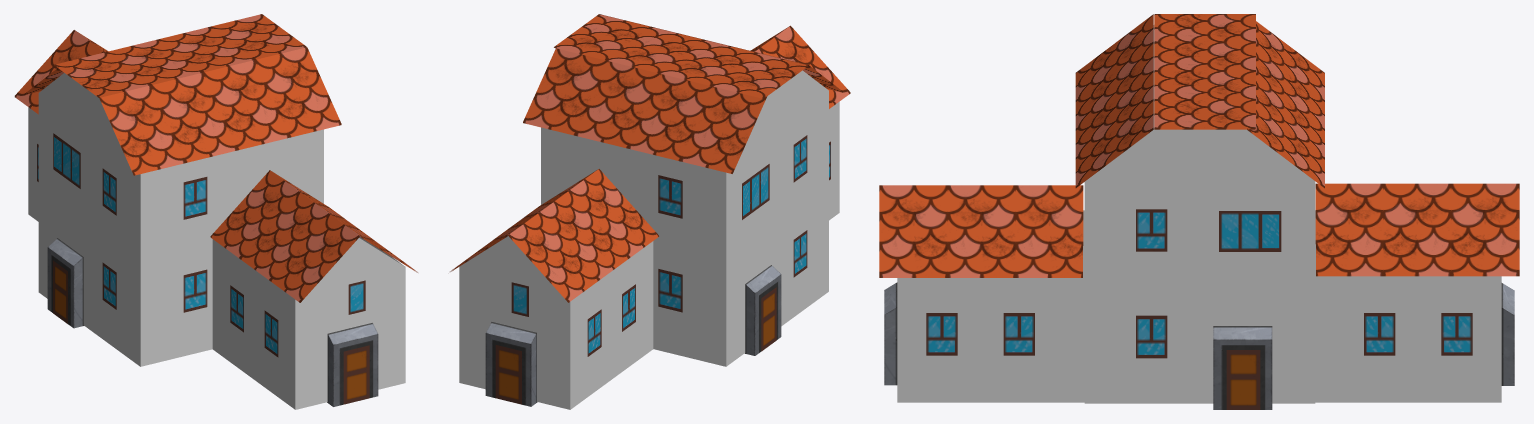
Rendered from home7.fbx.
3 renders of one model, left to right at view 1: azimuth 30°, elevation 25°; view 2: azimuth 150°, elevation 25°; view 3: azimuth 270°, elevation 25°, orthographic. The views are drawn at different scales.
Parts seen in each view (by area): view 1: Cube.083; view 2: Cube.083; view 3: Cube.083.
Boxes of the visible parts, x1,y1,x2,y2 form: Cube.083: (14,14,417,409); Cube.083: (450,14,850,409); Cube.083: (879,14,1519,409).
Bounding box in the file's own units: 235 × 270 × 553.
